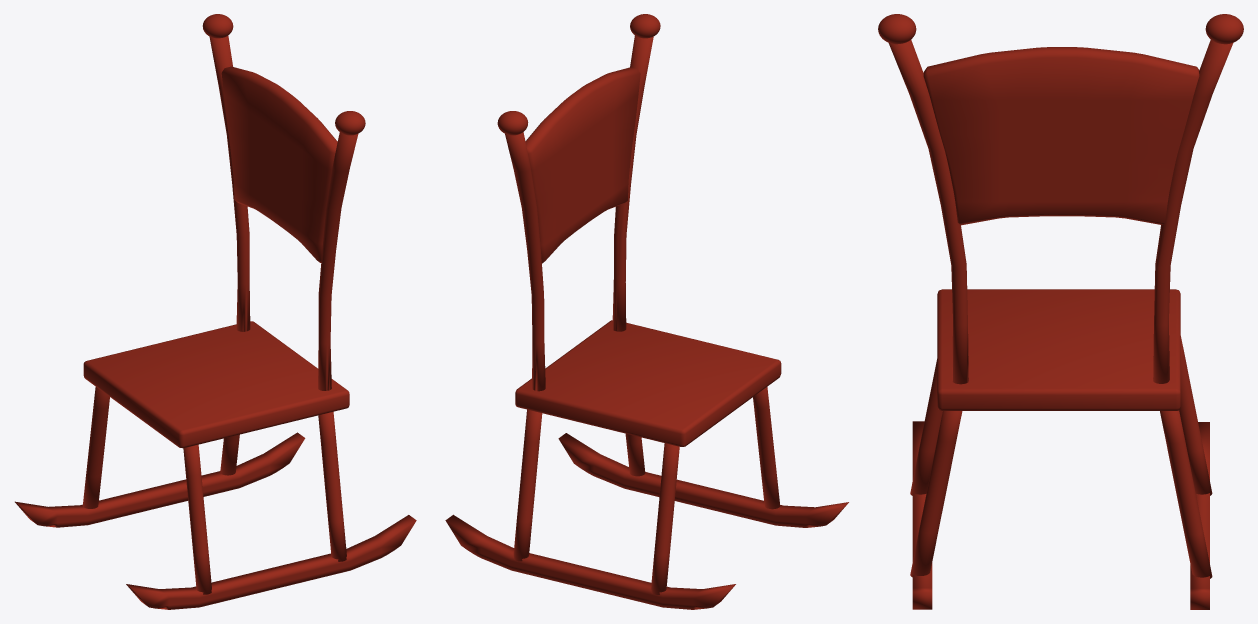
The model's file is mecedora.obj.
The picture shows the model from 3 angles, left to right: view 1: azimuth 30°, elevation 25°; view 2: azimuth 150°, elevation 25°; view 3: azimuth 270°, elevation 25°; orthographic projection. The views are drawn at different scales.
Parts seen in each view (by area): view 1: Box001, Box002, m2, Box003, p2, Cylinder001, pata003, pata004, pata2, Cylinder002, Sphere002, Sphere001; view 2: Box001, Box002, Box003, m2, Cylinder001, p2, pata2, Cylinder002, pata003, pata004, Sphere002, Sphere001; view 3: Box002, Box001, p2, Cylinder001, Cylinder002, pata004, pata2, pata003, m2, Box003, Sphere001, Sphere002.
Boxes of the visible parts, x1,y1,x2,y2 form: Box001: (83,321,349,448); Box002: (221,66,337,262); m2: (126,515,416,609); Box003: (15,432,305,527); p2: (318,132,358,390); Cylinder001: (209,35,250,331); pata003: (183,444,211,594); pata004: (318,411,346,561); pata2: (82,387,109,508); Cylinder002: (220,434,239,475); Sphere002: (335,111,365,135); Sphere001: (202,14,233,38); Box001: (515,320,781,446); Box002: (525,67,640,263); Box003: (445,514,735,609); m2: (558,433,848,527); Cylinder001: (505,132,545,391); p2: (612,35,653,331); pata2: (651,443,679,594); Cylinder002: (513,409,542,561); pata003: (753,387,780,509); pata004: (625,433,645,476); Sphere002: (630,14,660,38); Sphere001: (497,111,528,135); Box002: (923,47,1199,225); Box001: (937,289,1180,410); p2: (888,40,968,384); Cylinder001: (1153,40,1233,383); Cylinder002: (1160,410,1212,578); pata004: (910,411,962,577); pata2: (1179,336,1212,495); pata003: (910,359,942,495); m2: (912,421,932,609); Box003: (1190,422,1209,609); Sphere001: (1205,14,1243,44); Sphere002: (878,14,916,44).
Bounding box in the file's own units: 32.84 × 51.25 × 29.59.
1 material, 1 textured.
